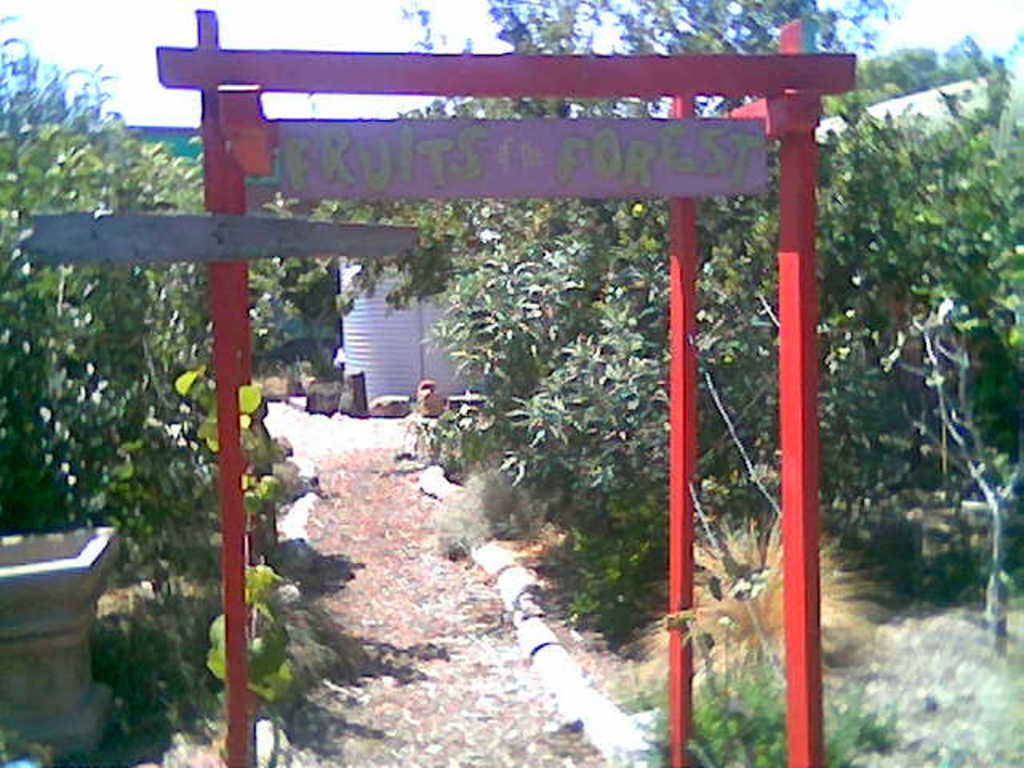Tree: (299, 0, 1024, 606), (0, 12, 330, 569)
